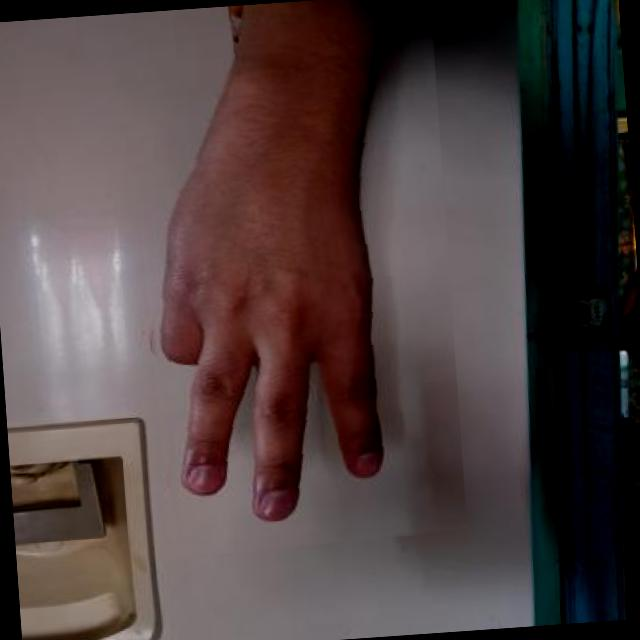M: (118, 0, 467, 560)
